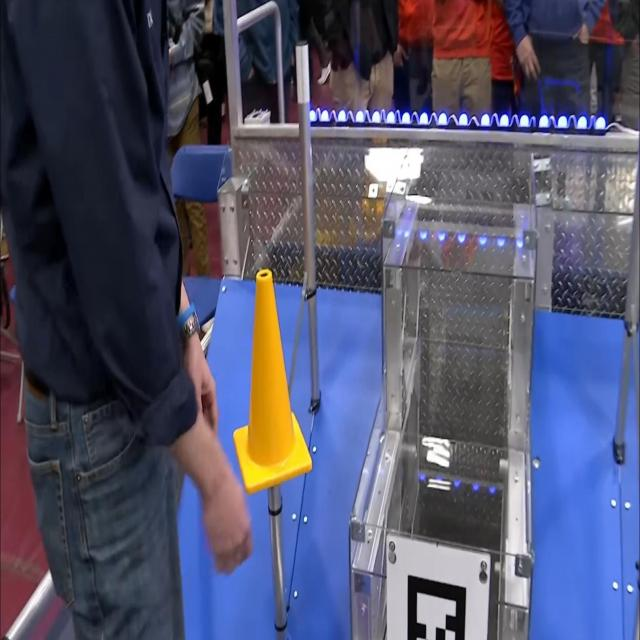frc_cone: (228, 266, 314, 498)
